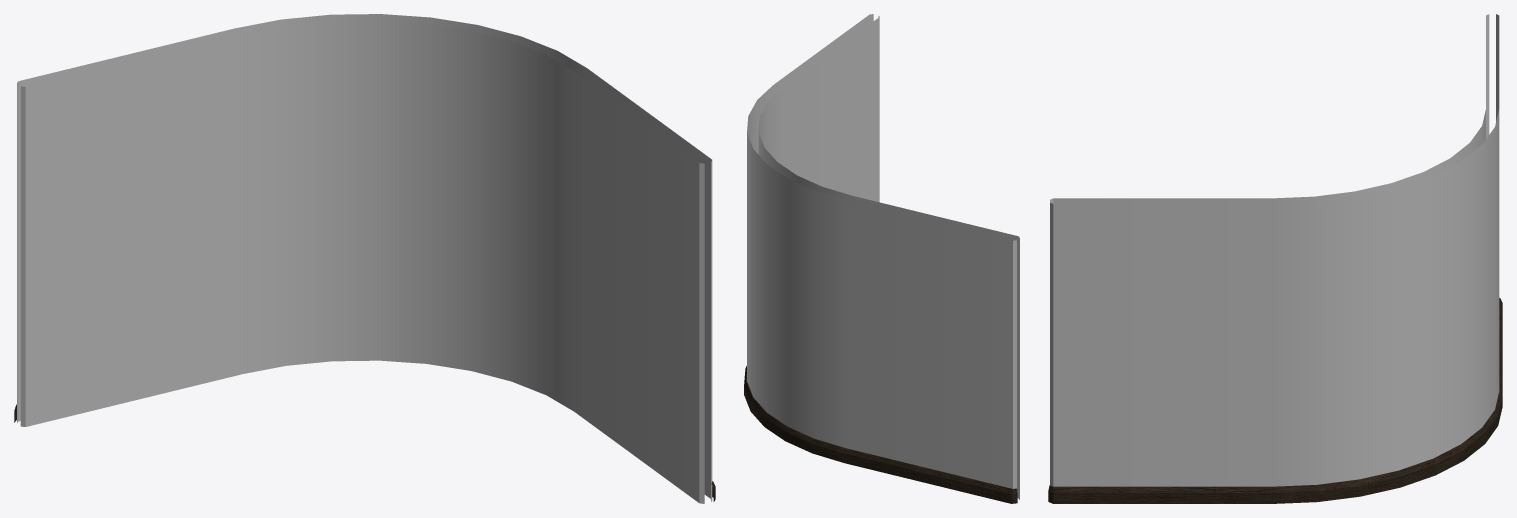
File: wall_1_rounded_corner_1_1.fbx
3 views of the same model, side by side, from view 1: azimuth 30°, elevation 25°; view 2: azimuth 150°, elevation 25°; view 3: azimuth 270°, elevation 25° (orthographic). The views are drawn at different scales.
Parts seen in each view (by area): view 1: wall_1_rounded_corner_1_1; view 2: wall_1_rounded_corner_1_1; view 3: wall_1_rounded_corner_1_1.
Boxes of the visible parts, x1=… form: wall_1_rounded_corner_1_1: x1=14, y1=14, x2=715, y2=503; wall_1_rounded_corner_1_1: x1=744, y1=14, x2=1019, y2=503; wall_1_rounded_corner_1_1: x1=1048, y1=14, x2=1502, y2=503.
Size of the model in its own units: 4.14 by 3 by 4.14.
